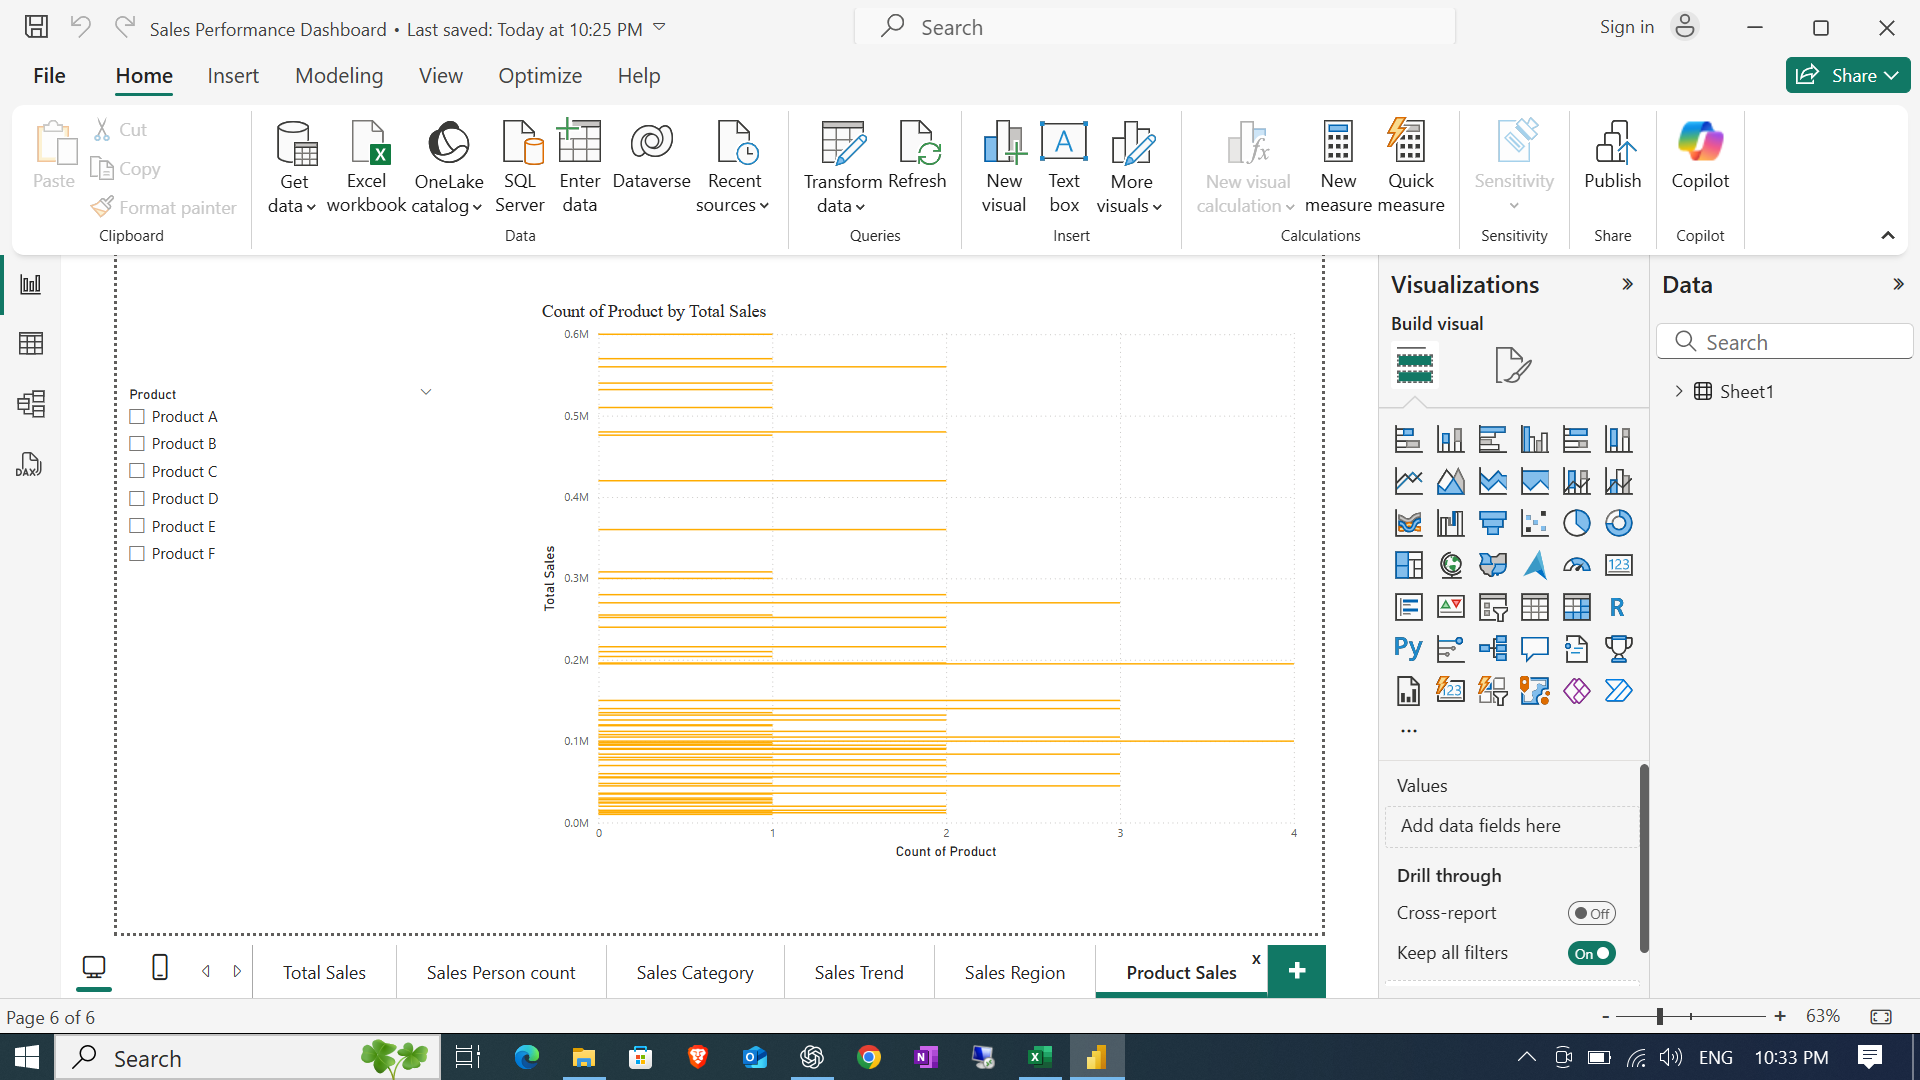

What the dashboard file says about the page in this screenshot:
{"tool":"powerbi","page":{"name":"Product Sales","canvas":[1280,720],"ordinal":5},"visuals":[{"type":"barChart","title":"Count of Product by Total Sales","fields":{"Category":["Sheet1.Total Sales"],"Y":["CountNonNull(Sheet1.Product)"]},"box":[446,49.4,812.4,595.8],"z":0},{"type":"slicer","fields":{"Values":["Sheet1.Product"]},"box":[0,133.8,347.3,208.7],"z":1000}]}

Visuals, with their boxes on the page's 1280x720 design canvas (x1, y1, x2, y2). These are canvas units, not pixel positions in the 1920x1080 screenshot, which may show the page scaled, cropped or inside an application window:
"Count of Product by Total Sales" barChart: Rect(446, 49, 1258, 645)
slicer - Sheet1.Product: Rect(0, 134, 347, 342)
